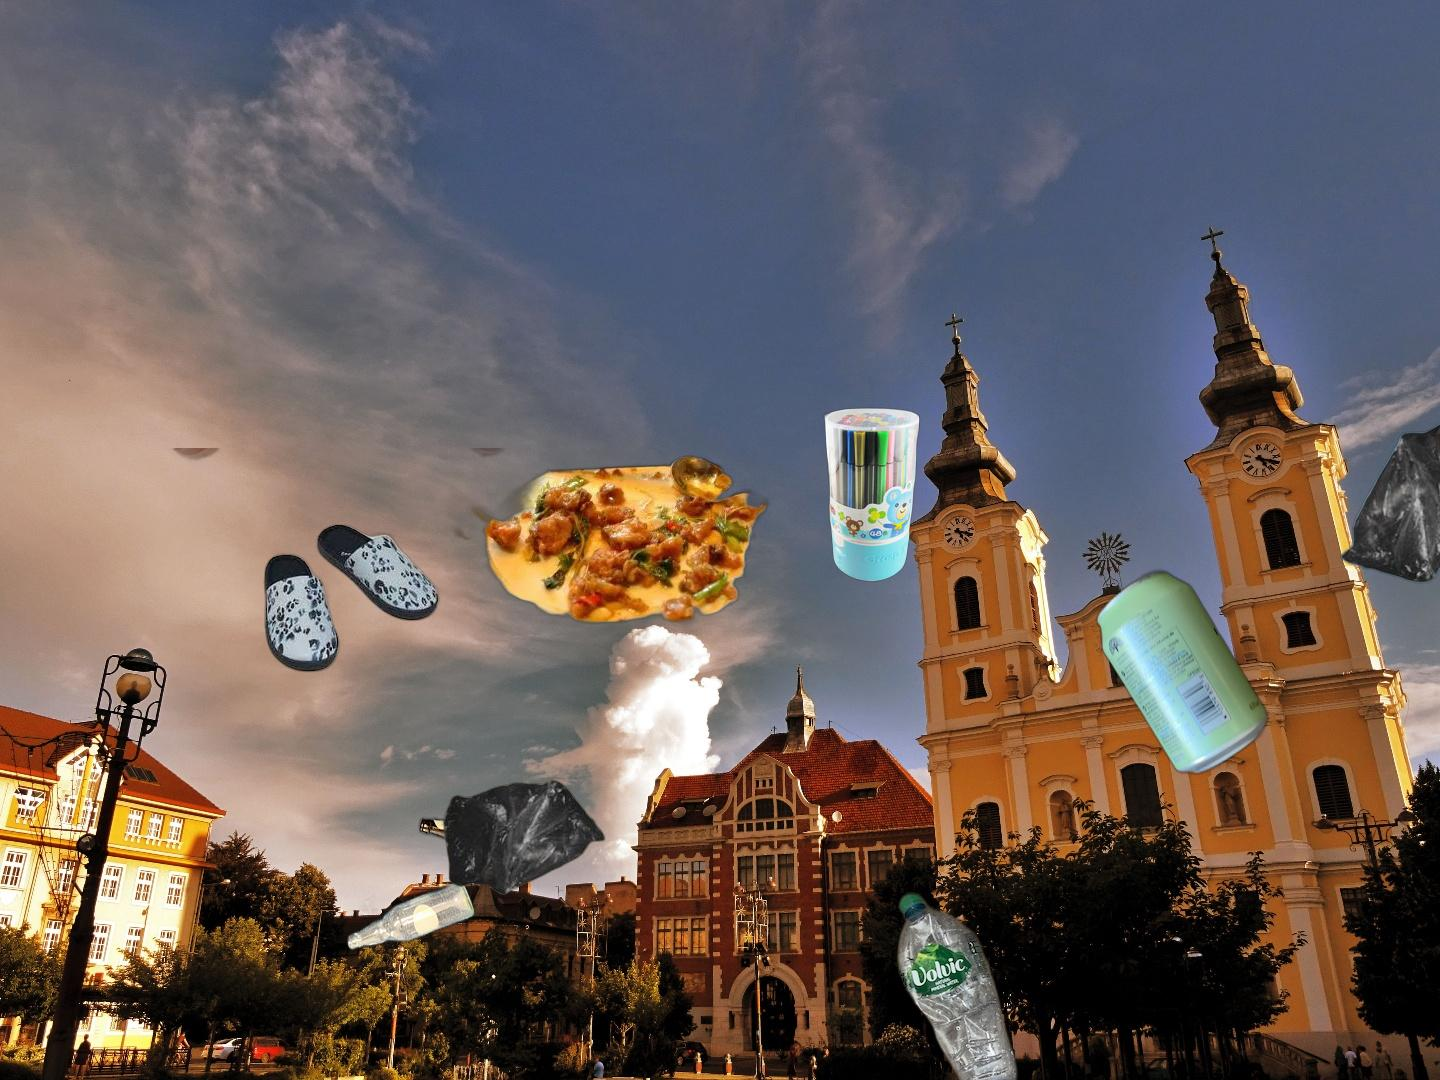biological: (393, 454, 805, 649)
glass: (167, 448, 551, 956)
metal-cans: (1092, 564, 1272, 781)
penholder: (779, 405, 923, 594)
plastic-bag: (440, 779, 608, 898), (1338, 407, 1440, 587)
plastic-bottles: (892, 887, 1022, 1080)
shoes: (259, 522, 443, 674)
